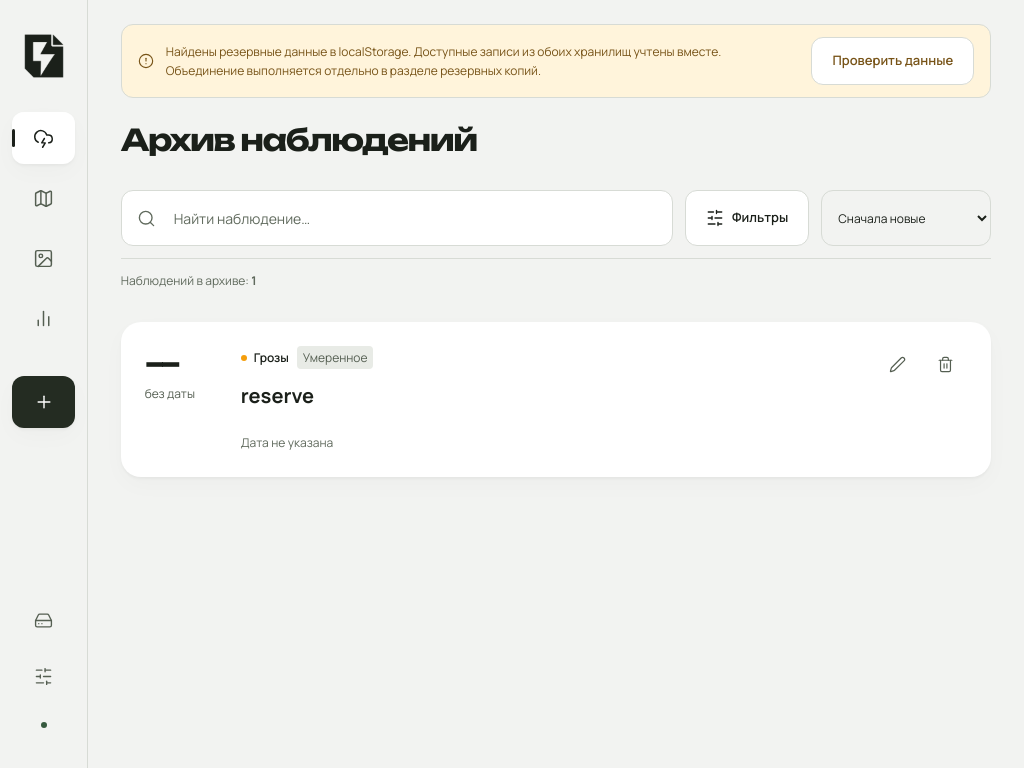
storage backend recovery through the application › reports a failed transfer and allows a later retry with the original source intact
The width and height of the screenshot is (1024, 768).
Check: the button "reserve" is shown, box [241,373,314,417]
Click the button named "Данные и резервные копии" at (44, 620), box [12,594,75,646]
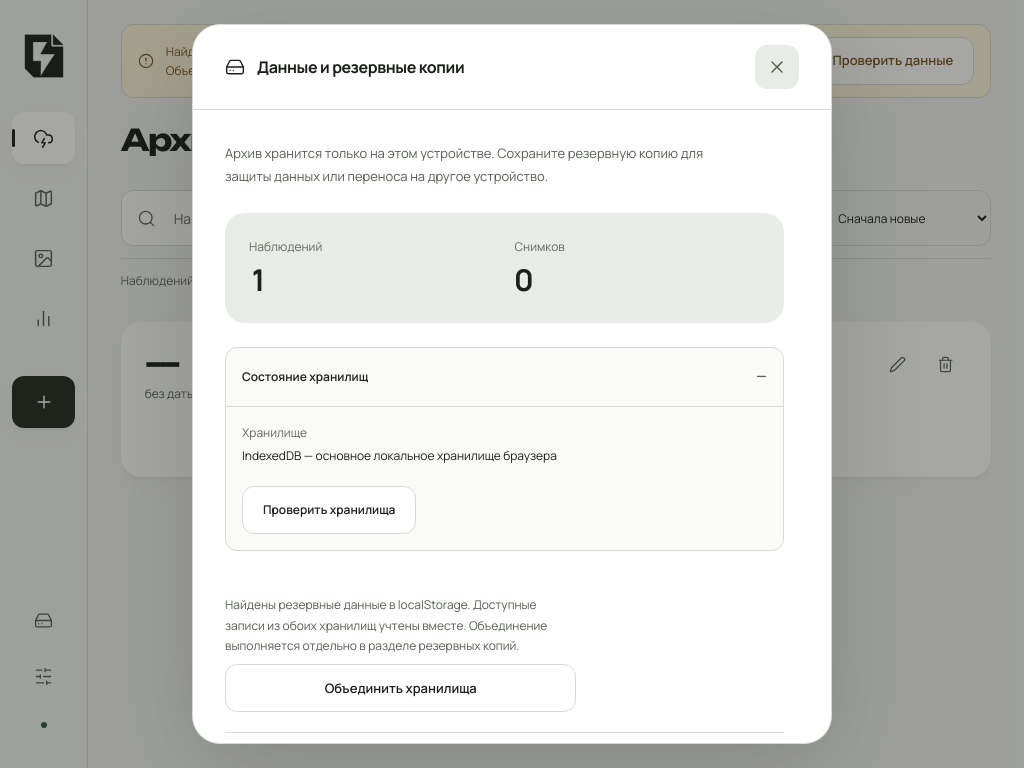
Click the button "Объединить хранилища" at (401, 688), box [225,664,576,712]
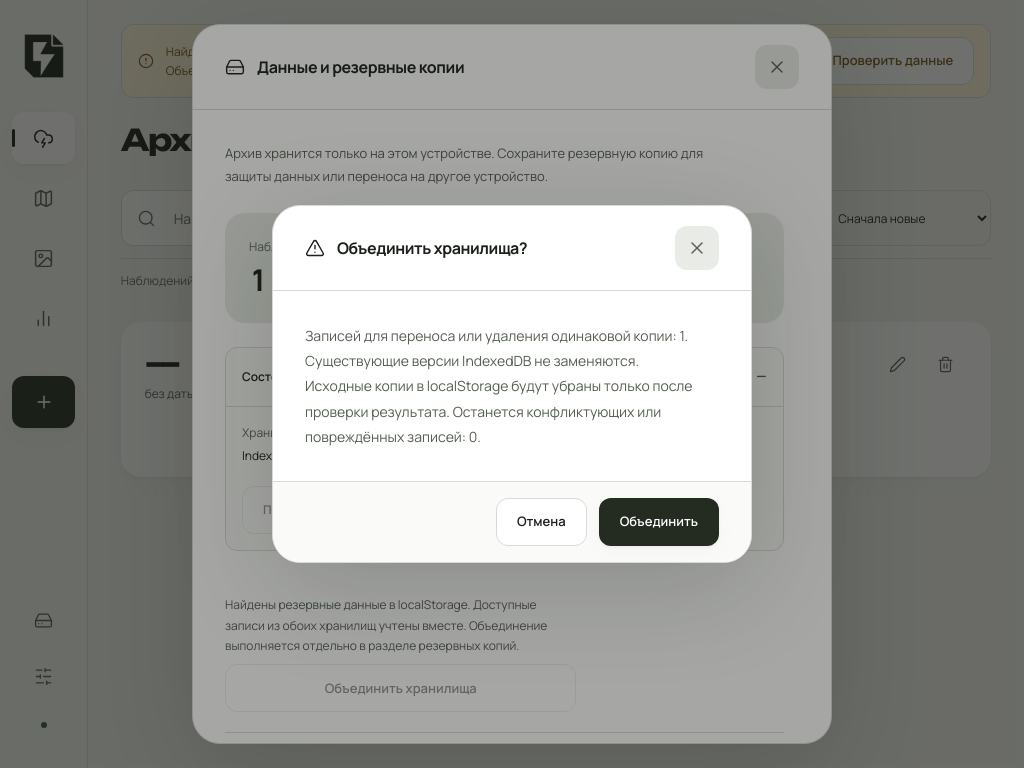
Click the button "Объединить" at (659, 522), box [599,498,719,546]
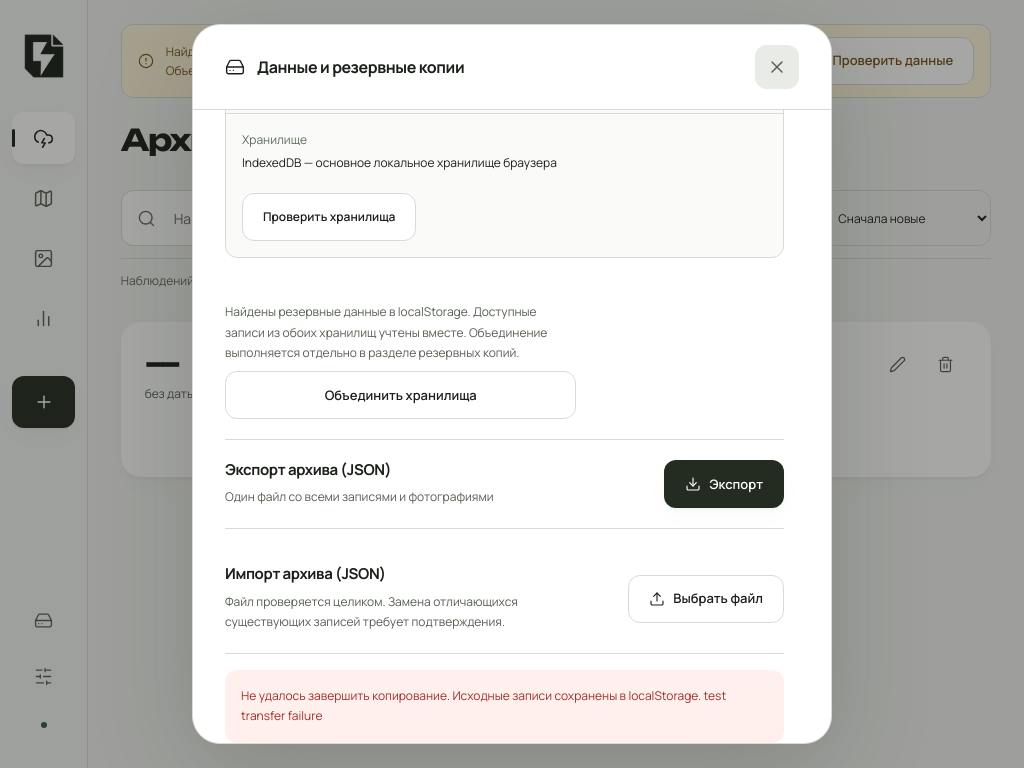
Check: the button "reserve" is shown, box [241,373,314,417]
Click the button "Объединить хранилища" at (401, 395), box [225,371,576,419]
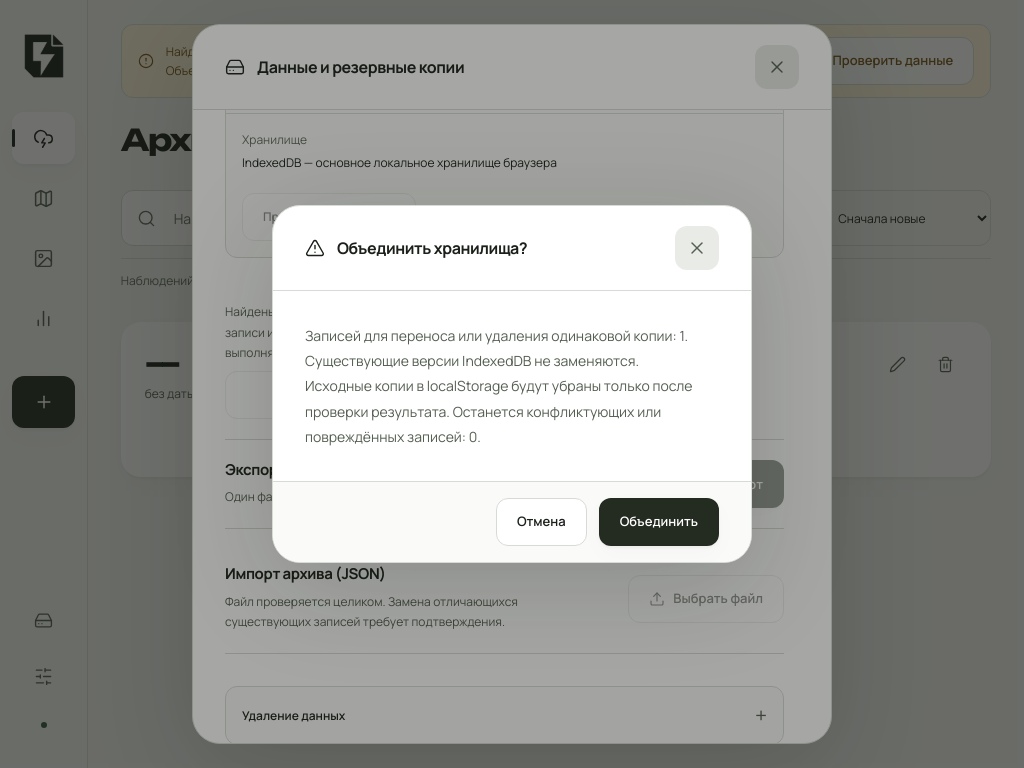
Click the button "Объединить" at (659, 522), box [599,498,719,546]
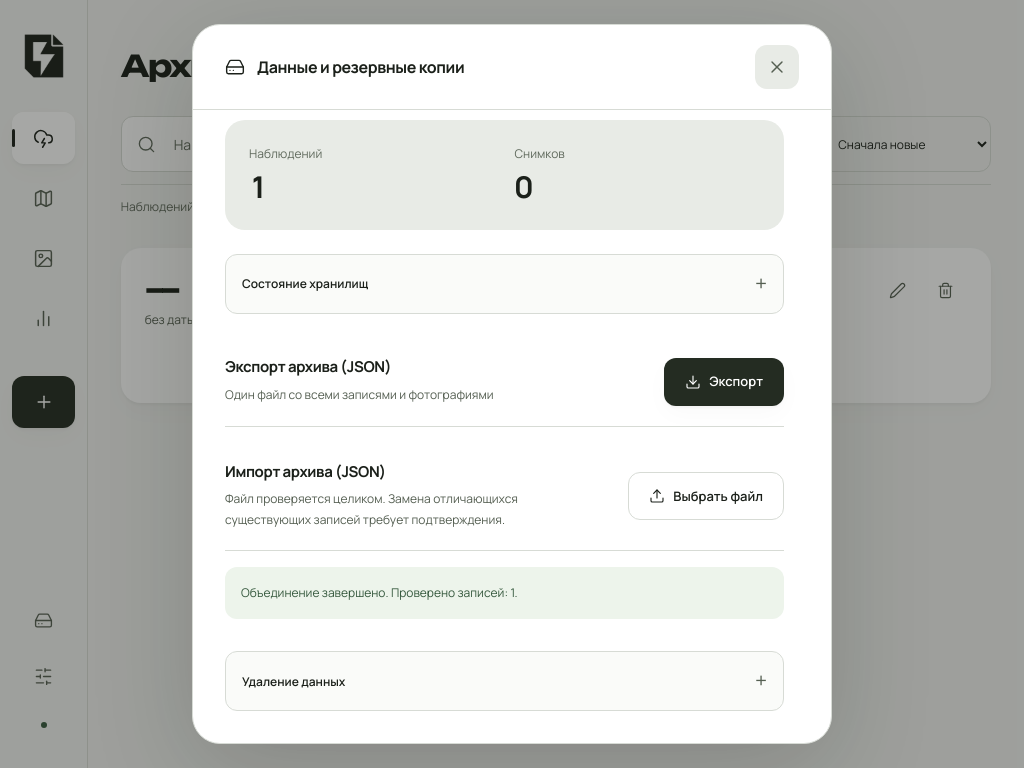
Check: the text "Объединение завершено. Проверено записей: 1." is shown, box [225,567,784,620]
